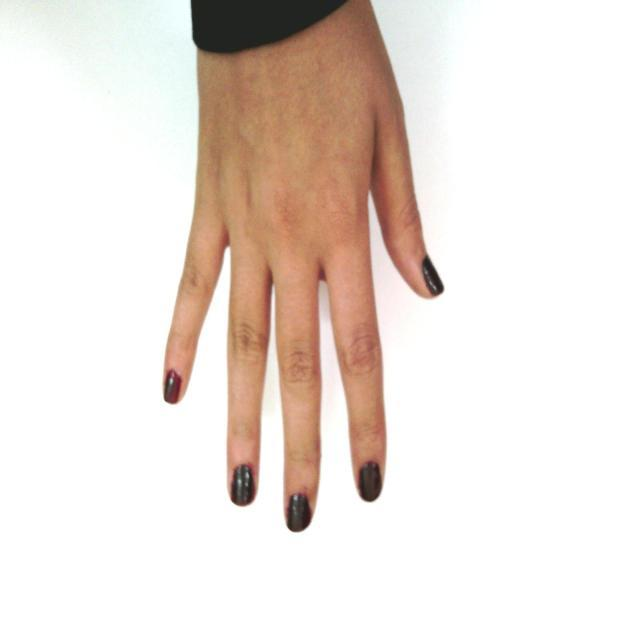Fingernail: (287, 494, 311, 532), (233, 465, 254, 505), (360, 463, 381, 502), (424, 258, 444, 294), (164, 371, 180, 403)
